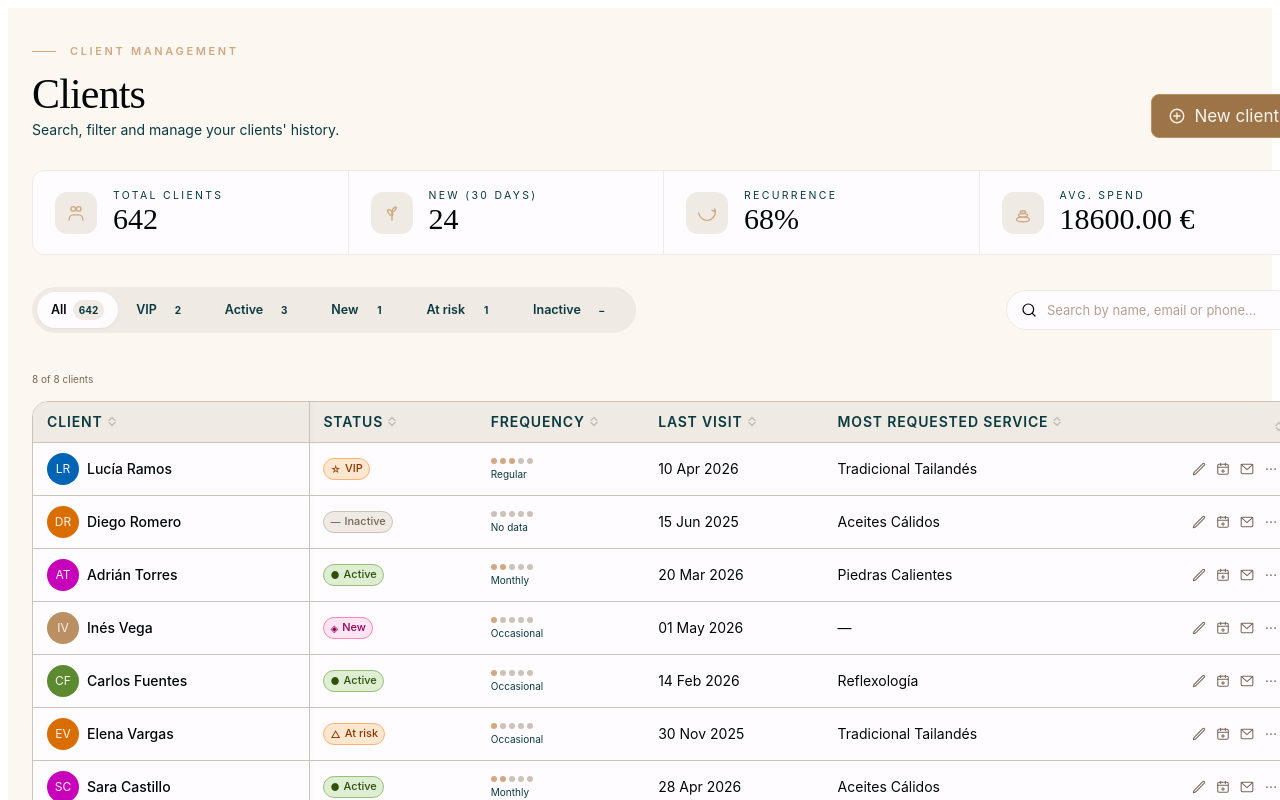
it: ClientesPage — segment filtering › clicking "All" after VIP filter restores all 8 clients
The width and height of the screenshot is (1280, 800).
Click the button "VIP 2". click: (164, 310)
box: [122,292,207,328]
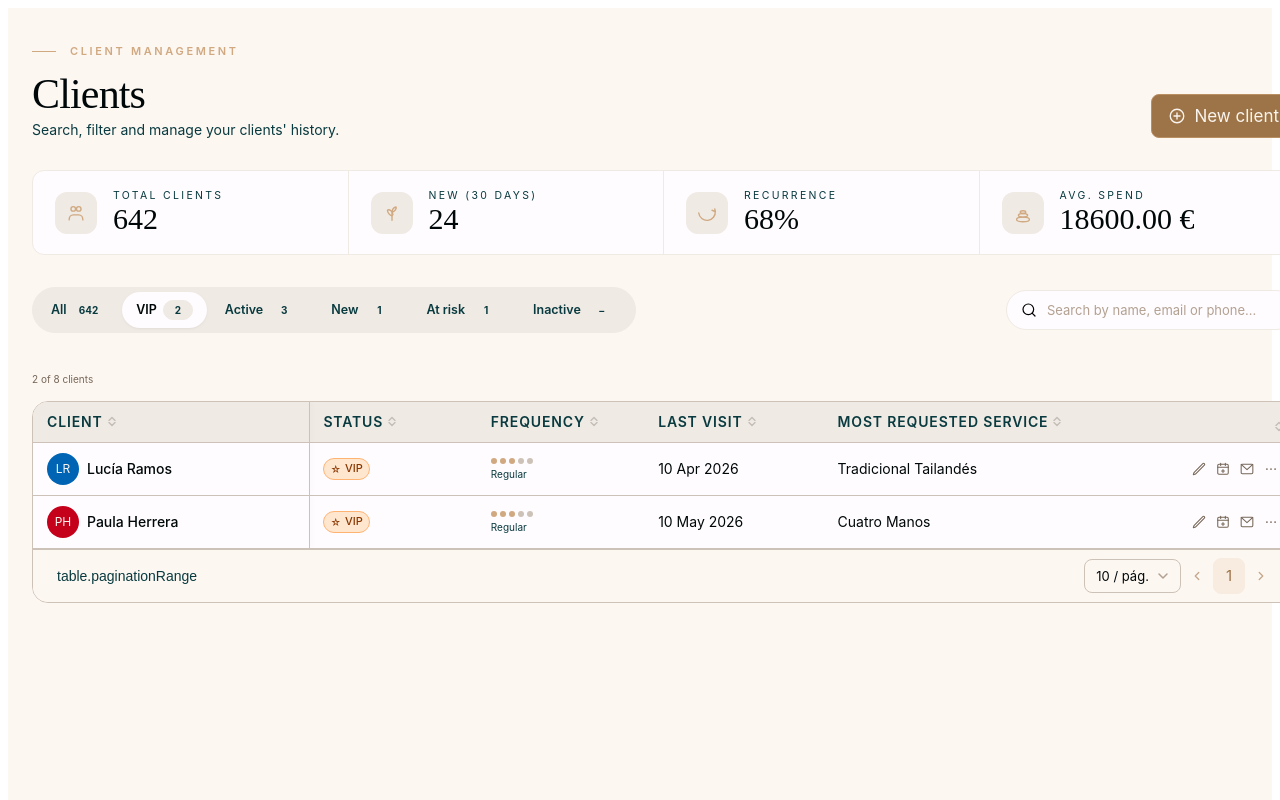
Click the button "All 642". click: (78, 310)
box: [37,292,118,328]
(page scrolled)
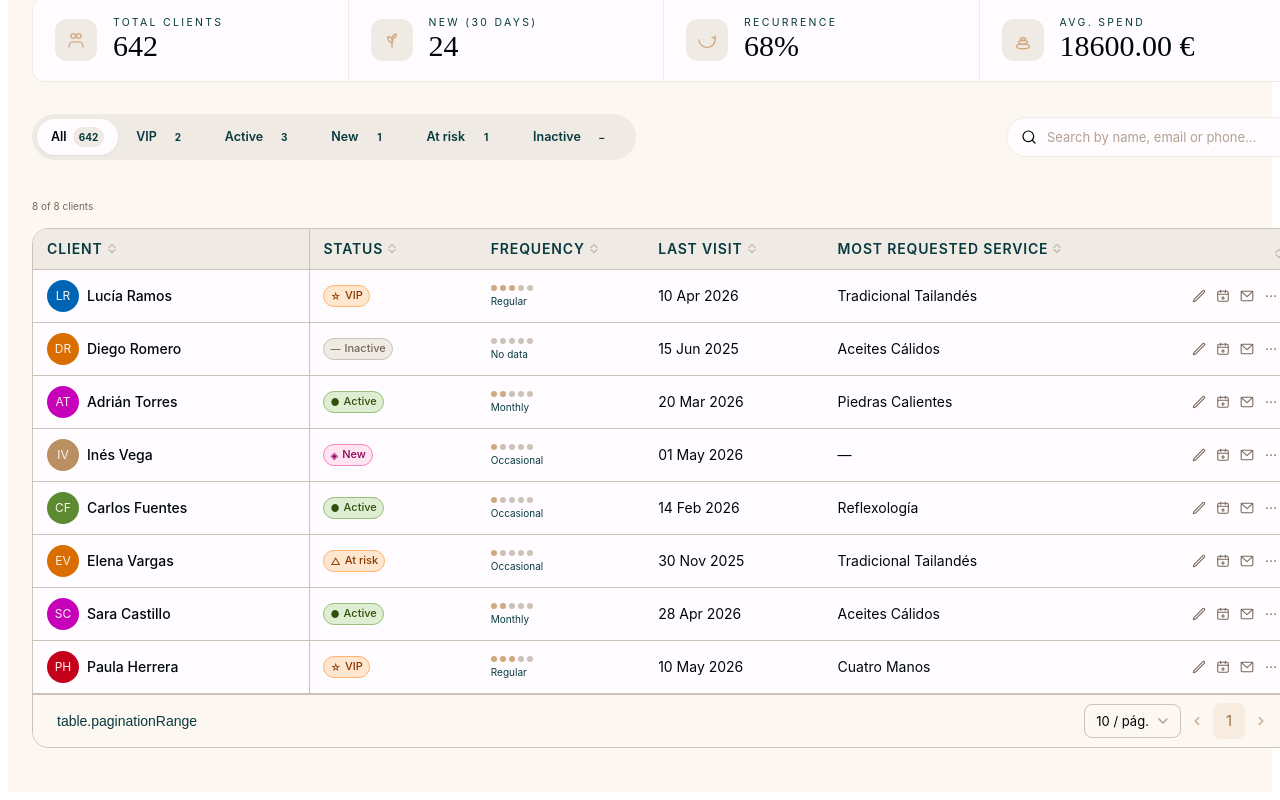
Result: the button named "View detail for Diego Romero" is shown at [47,333,181,365]
Result: the button named "View detail for Adrián Torres" is shown at [47,386,178,418]
Result: the button named "View detail for Inés Vega" is shown at [47,439,153,471]
